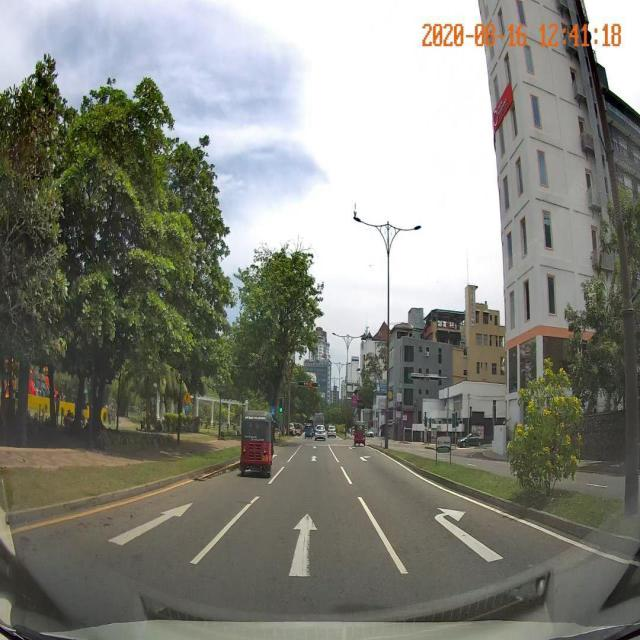Strelka vpered: (106, 502, 194, 546), (289, 512, 318, 576)
Strelka vpravo: (435, 508, 506, 563)
